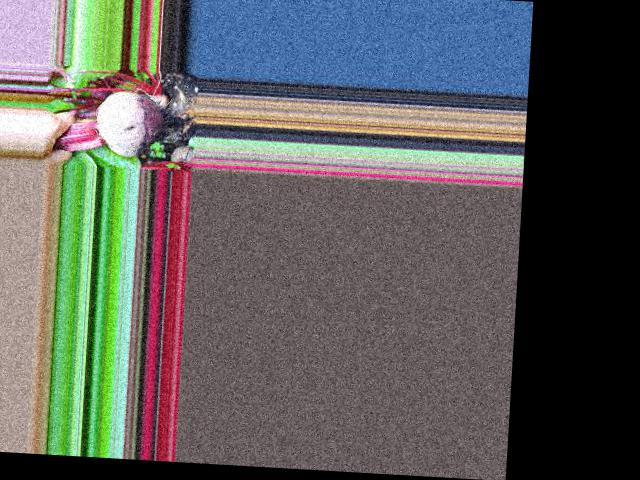beet: (53, 87, 198, 160)
